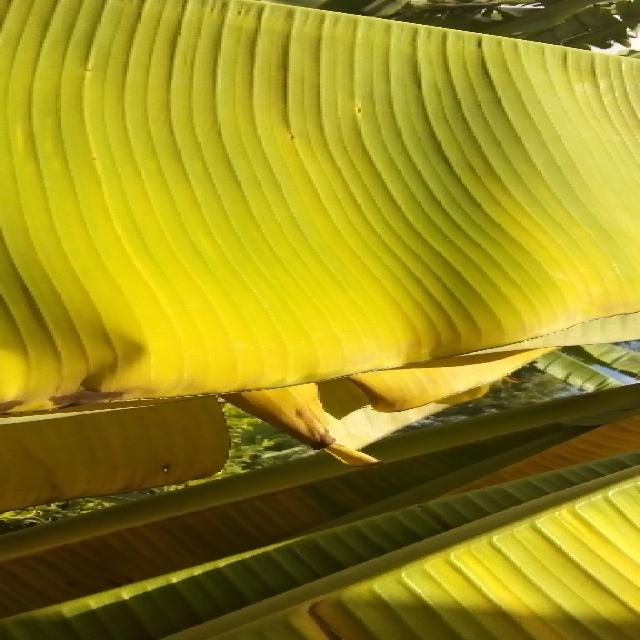Cordana: (0, 0, 638, 428), (0, 380, 640, 637)
